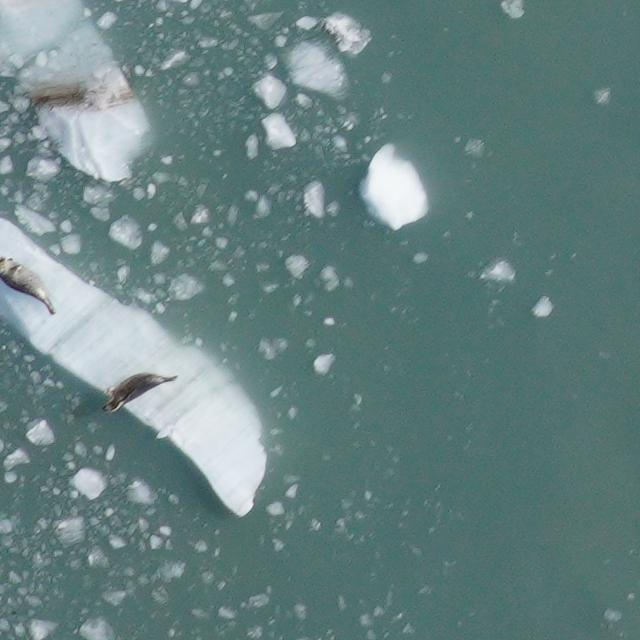seal: (93, 356, 179, 420)
